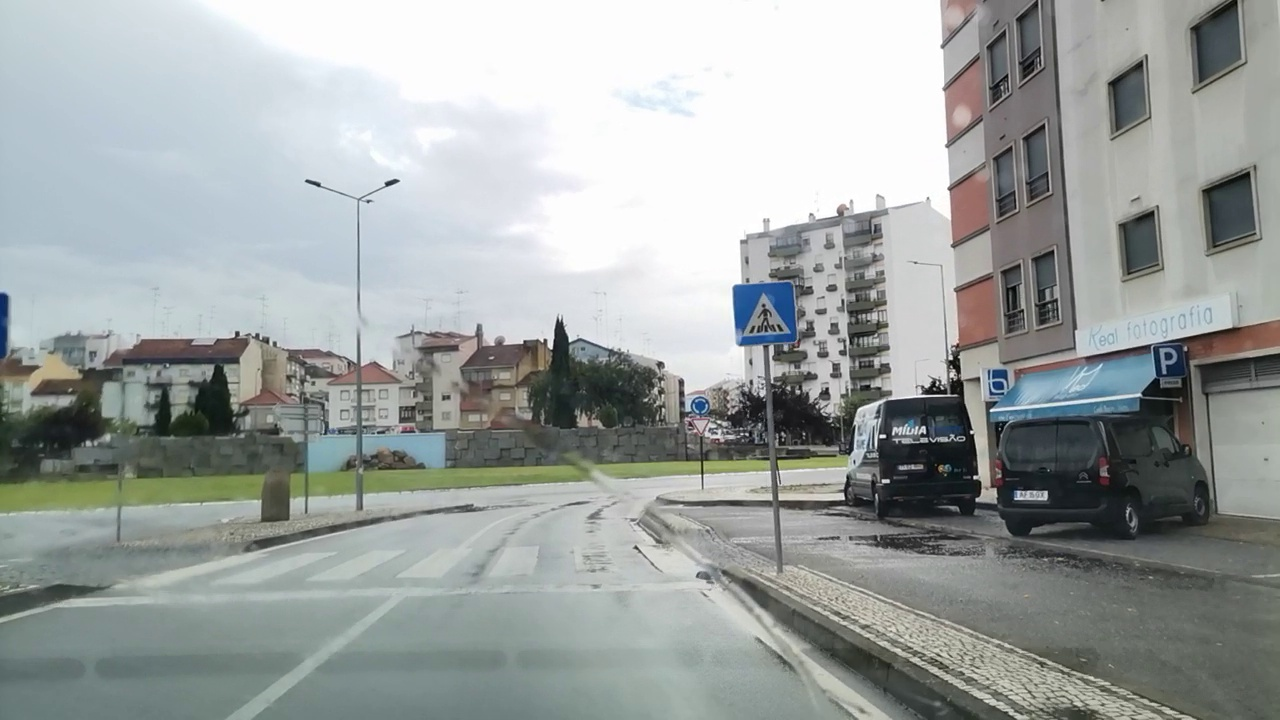Stairs: (122, 538, 704, 582)
